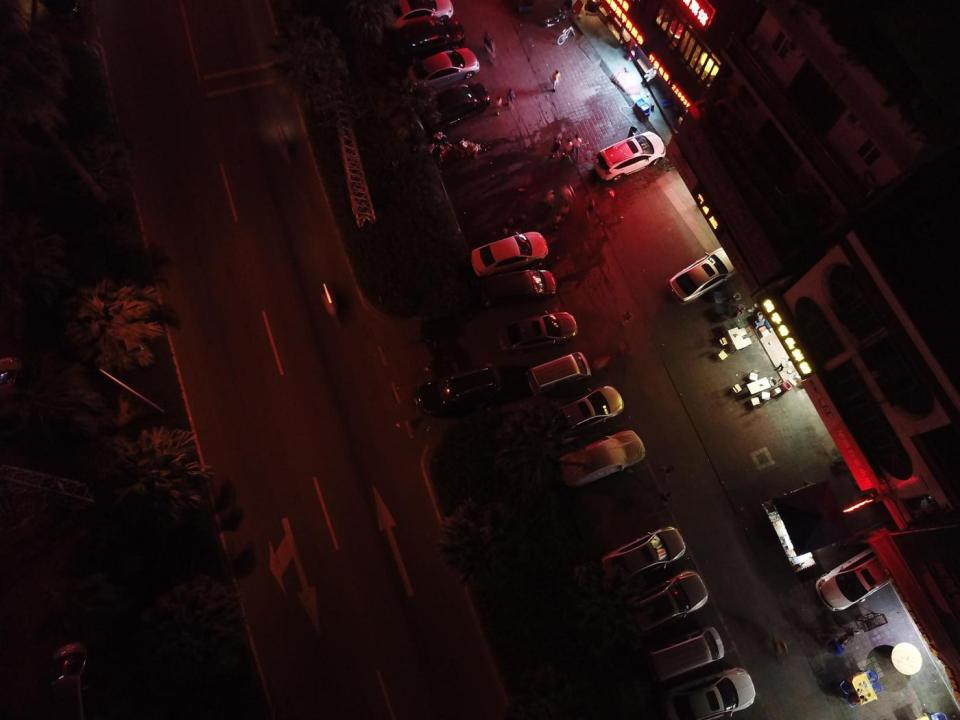car: (815, 544, 906, 613), (622, 569, 708, 630), (557, 430, 646, 488), (600, 525, 685, 584), (413, 362, 503, 417), (665, 666, 756, 720), (666, 245, 742, 306), (549, 385, 624, 445), (45, 637, 99, 720), (470, 230, 550, 277), (592, 131, 666, 181), (497, 309, 578, 354), (419, 81, 490, 132), (407, 47, 480, 94), (480, 266, 557, 308), (397, 19, 466, 58), (383, 0, 454, 30)
van: (644, 624, 726, 680), (526, 351, 592, 397)
